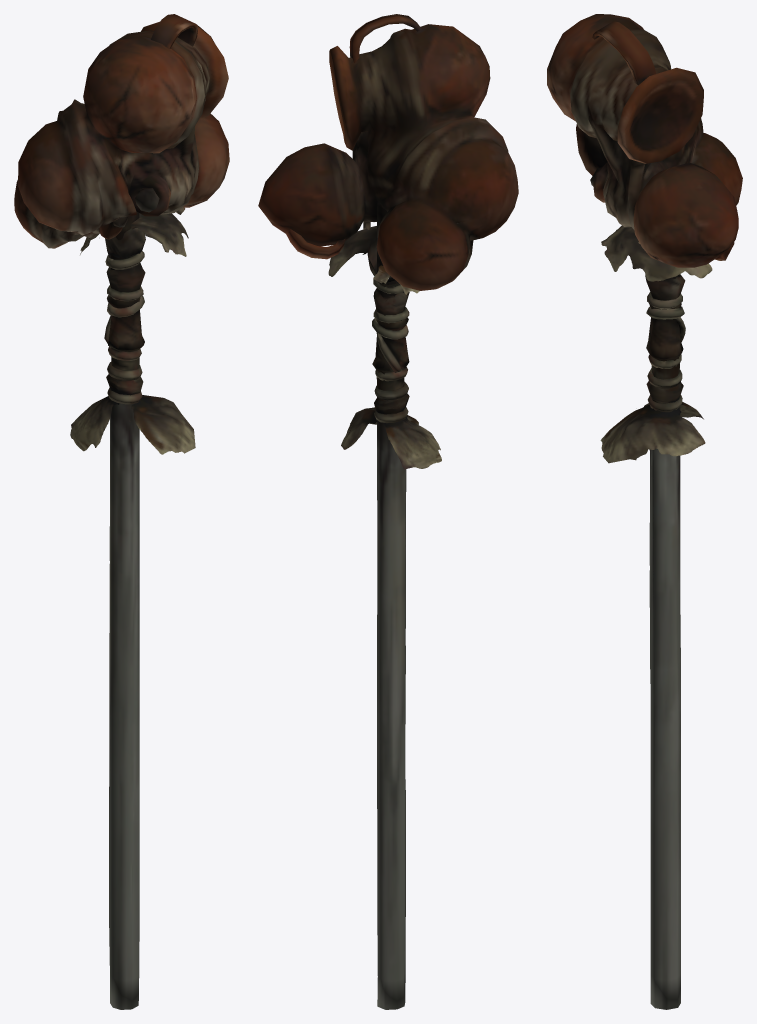
The model's file is weapon-false-truth.glb.
The picture shows the model from 3 angles, left to right: view 1: azimuth 30°, elevation 25°; view 2: azimuth 150°, elevation 25°; view 3: azimuth 270°, elevation 25°; orthographic projection. The views are drawn at different scales.
Visible parts, largest first — view 1: mimicGangStaffA_MDL_q; view 2: mimicGangStaffA_MDL_q; view 3: mimicGangStaffA_MDL_q.
Part boxes in pixels (x1,y1,x2,y2): mimicGangStaffA_MDL_q: [14, 14, 229, 1009]; mimicGangStaffA_MDL_q: [258, 14, 518, 1009]; mimicGangStaffA_MDL_q: [547, 14, 742, 1009].
Bounding box in the file's own units: 0.5073 × 2.18 × 0.391.
1 material, 1 textured.
